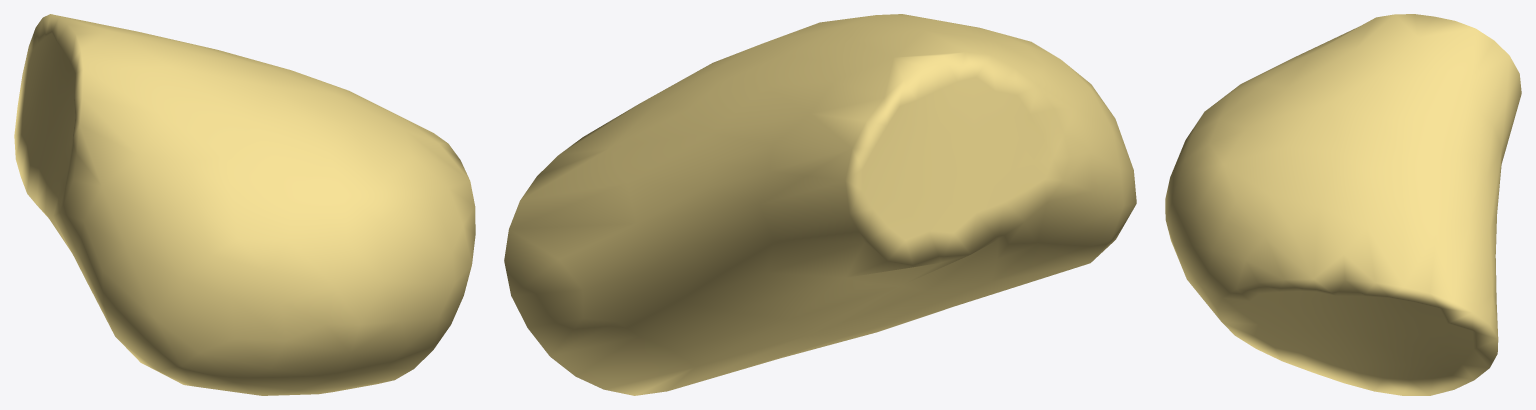
File: fma53416_mm1019.glb
The picture shows the model from 3 angles, left to right: view 1: azimuth 30°, elevation 25°; view 2: azimuth 150°, elevation 25°; view 3: azimuth 270°, elevation 25°; orthographic projection. The views are drawn at different scales.
Parts seen in each view (by area): view 1: FMA53416_MM1019; view 2: FMA53416_MM1019; view 3: FMA53416_MM1019.
Part boxes in pixels (left/top/right/bottom): FMA53416_MM1019: left=14, top=14, right=475, bottom=395; FMA53416_MM1019: left=504, top=14, right=1136, bottom=395; FMA53416_MM1019: left=1165, top=14, right=1521, bottom=395.
Bounding box in the file's own units: 0.00327 × 0.00273 × 0.00309.
